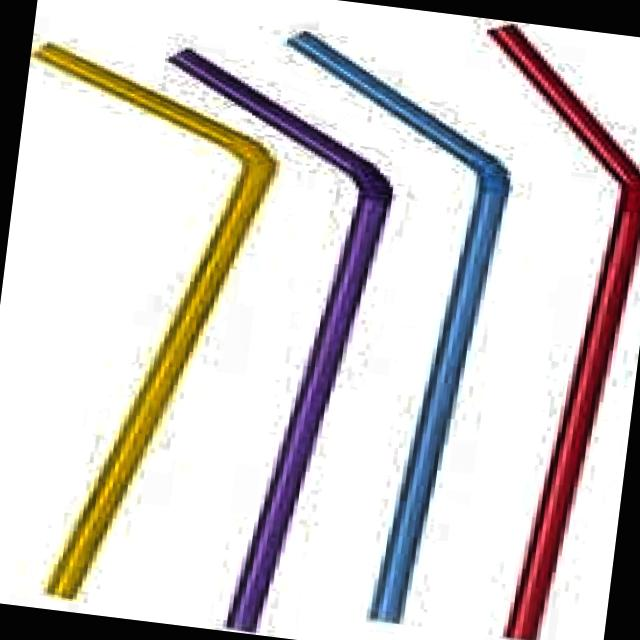plastic straw: (39, 44, 276, 598), (288, 32, 509, 621), (170, 49, 392, 629), (491, 25, 640, 638)
